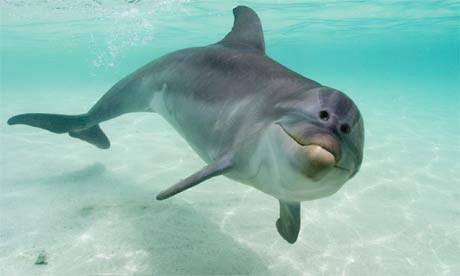fish: (5, 4, 367, 250)
